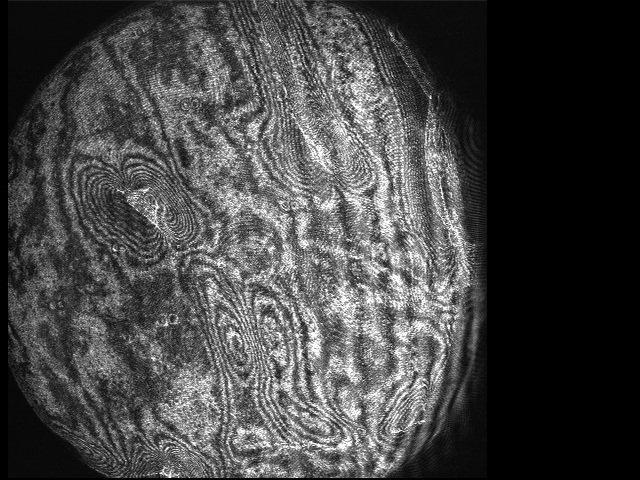plume: (77, 154, 207, 258)
